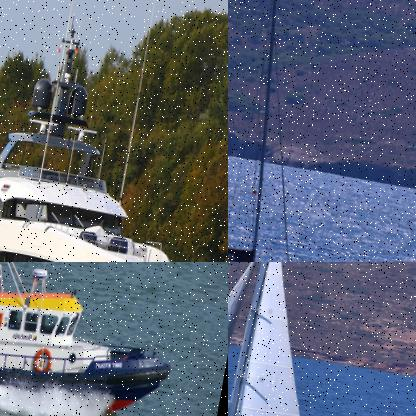Patrol Boat: (0, 262, 208, 415)
Sails Boat: (228, 0, 358, 261), (228, 262, 415, 415)
Yacht: (0, 0, 212, 261)
